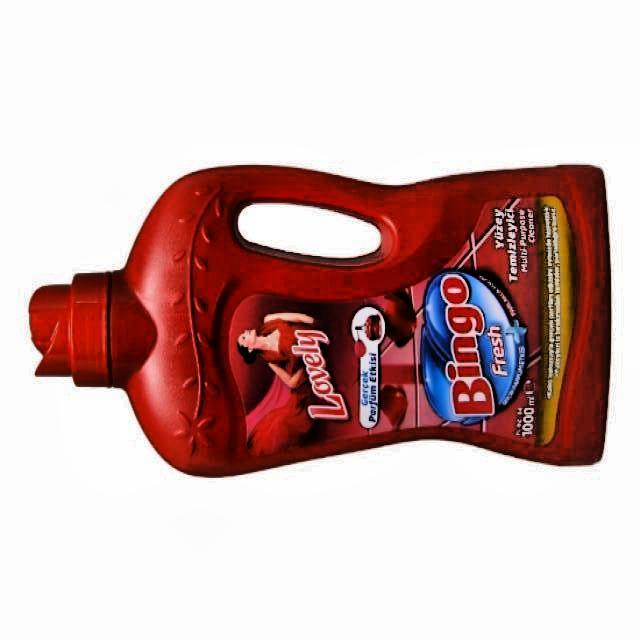plastic: (29, 166, 610, 476)
